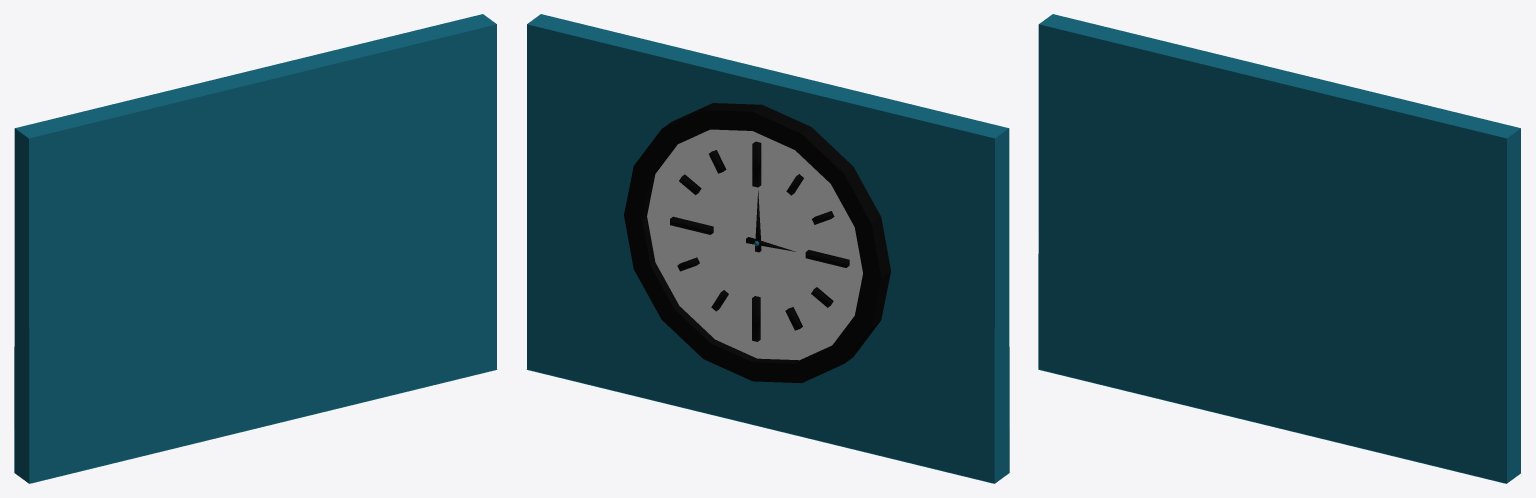
Rendered from tembok yg ada jamnya.fbx.
The picture shows the model from 3 angles, left to right: view 1: azimuth 30°, elevation 25°; view 2: azimuth 150°, elevation 25°; view 3: azimuth 330°, elevation 25°; orthographic projection.
Parts seen in each view (by area): view 1: Cube.001; view 2: Cube.001, Circle, Cube.028; view 3: Cube.001.
Boxes of the visible parts, x1,y1,x2,y2 form: Cube.001: [14, 14, 497, 483]; Cube.001: [526, 14, 1009, 483]; Circle: [624, 103, 890, 383]; Cube.028: [670, 141, 849, 341]; Cube.001: [1038, 14, 1520, 483].
Size of the model in its own units: 8.5 by 5.99 by 0.7611.
